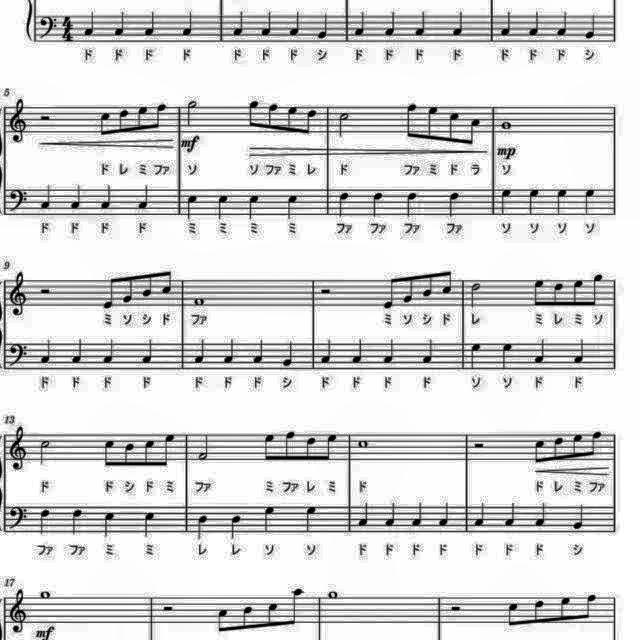Bass-clef: (6, 341, 30, 372), (6, 186, 30, 216), (36, 13, 60, 43), (7, 503, 30, 533)
Eighth-note: (286, 586, 306, 630), (403, 101, 421, 143), (97, 272, 115, 312), (377, 272, 395, 312), (424, 104, 441, 144), (100, 436, 118, 472), (590, 270, 606, 310), (162, 430, 178, 470), (446, 109, 462, 147), (582, 590, 600, 622), (402, 269, 418, 305), (282, 428, 298, 464), (140, 438, 158, 470), (529, 594, 547, 626), (503, 598, 521, 630), (214, 606, 232, 638), (262, 430, 278, 466), (96, 108, 114, 140), (468, 117, 486, 149), (530, 437, 548, 468), (122, 271, 138, 305), (283, 104, 299, 138), (114, 106, 130, 140), (530, 275, 546, 309), (240, 602, 256, 634), (266, 600, 282, 632), (152, 99, 168, 131), (440, 266, 456, 298), (266, 99, 282, 131), (588, 427, 604, 459), (420, 268, 436, 300), (556, 590, 572, 622), (139, 268, 155, 300), (568, 431, 584, 463), (326, 430, 342, 462), (304, 106, 320, 138), (569, 276, 585, 308), (244, 98, 260, 130), (304, 435, 320, 465), (120, 440, 136, 470), (160, 266, 176, 296), (552, 434, 566, 466), (136, 101, 150, 132), (552, 278, 566, 308)
Full-note: (498, 116, 514, 132), (190, 292, 206, 308), (35, 588, 53, 602), (356, 438, 372, 452), (326, 588, 342, 602)
Half-note: (197, 428, 215, 462), (336, 110, 354, 142), (34, 434, 52, 466), (183, 98, 201, 128), (466, 278, 482, 310)
Half-rest: (316, 282, 336, 298), (36, 282, 52, 298), (159, 601, 177, 615), (36, 109, 54, 123), (448, 600, 464, 614), (472, 440, 488, 452)
Quarter-note: (261, 504, 279, 536), (68, 506, 86, 538), (303, 504, 321, 536), (412, 8, 430, 40), (569, 502, 587, 534), (496, 186, 514, 218), (450, 8, 468, 40), (466, 341, 484, 372), (34, 504, 51, 536), (180, 8, 197, 40), (336, 189, 354, 219), (445, 189, 463, 219), (420, 337, 438, 367), (192, 337, 210, 367), (404, 191, 422, 221), (100, 337, 118, 367), (183, 190, 201, 220), (140, 509, 158, 539), (497, 340, 515, 370), (68, 336, 86, 366), (379, 7, 396, 38), (37, 337, 54, 368), (526, 186, 542, 218), (582, 186, 598, 218), (315, 11, 331, 43), (368, 188, 384, 220), (280, 338, 296, 370), (554, 186, 570, 218), (584, 10, 600, 42), (245, 192, 262, 222), (213, 193, 230, 223), (37, 181, 54, 211), (349, 337, 366, 367), (526, 7, 542, 38), (142, 9, 158, 39), (474, 500, 490, 530), (136, 183, 152, 213), (102, 510, 118, 540), (378, 337, 394, 367), (232, 9, 248, 39), (570, 336, 586, 366), (112, 9, 128, 39), (318, 337, 334, 367), (140, 336, 156, 366), (83, 9, 99, 39), (532, 336, 548, 366), (196, 512, 212, 542), (355, 501, 371, 531), (286, 10, 302, 40), (252, 337, 268, 367), (220, 337, 236, 367), (438, 501, 454, 531), (284, 192, 300, 222), (260, 9, 276, 39), (498, 8, 514, 38), (68, 183, 84, 213), (410, 501, 426, 531), (554, 9, 570, 39), (502, 500, 518, 530), (228, 512, 245, 540), (536, 499, 552, 528), (380, 499, 396, 528), (352, 10, 368, 38), (98, 184, 114, 212)
Treble-clef: (6, 96, 30, 146), (6, 589, 30, 639), (7, 270, 30, 318), (7, 423, 27, 473)
